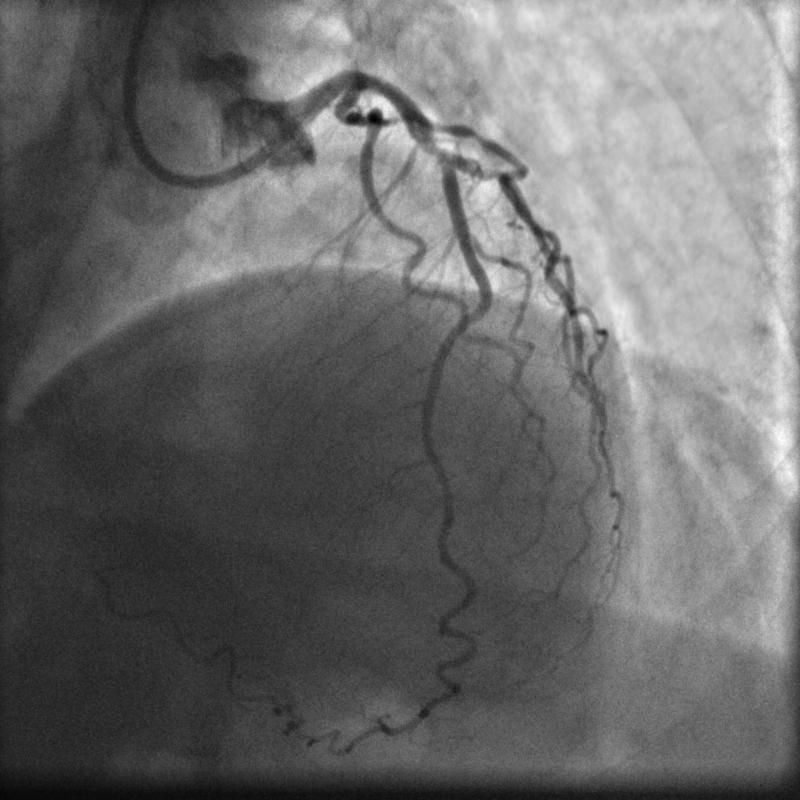Stenosis: (412, 133, 455, 167)
